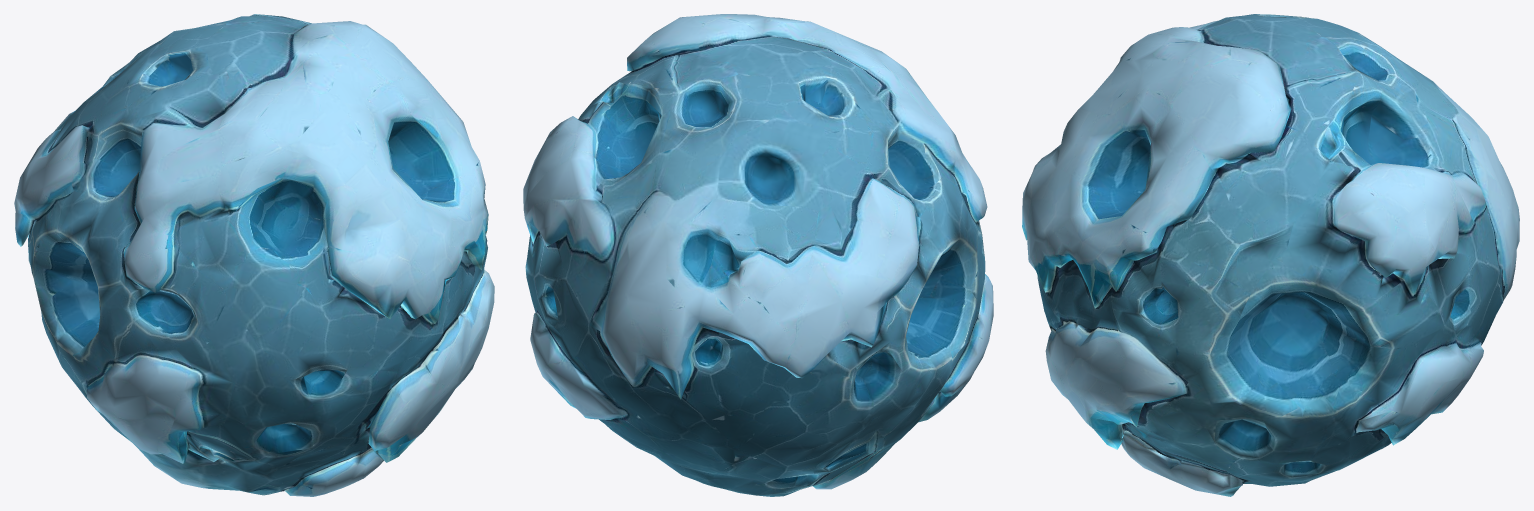
Rendered from asteroid-icy.glb.
3 renders of one model, left to right at view 1: azimuth 30°, elevation 25°; view 2: azimuth 150°, elevation 25°; view 3: azimuth 270°, elevation 25°, orthographic.
Bounding box in the file's own units: 1.72 × 1.89 × 1.89.
1 material, 1 textured.
